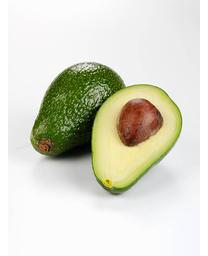avocado: (90, 83, 183, 195), (30, 62, 129, 160)
